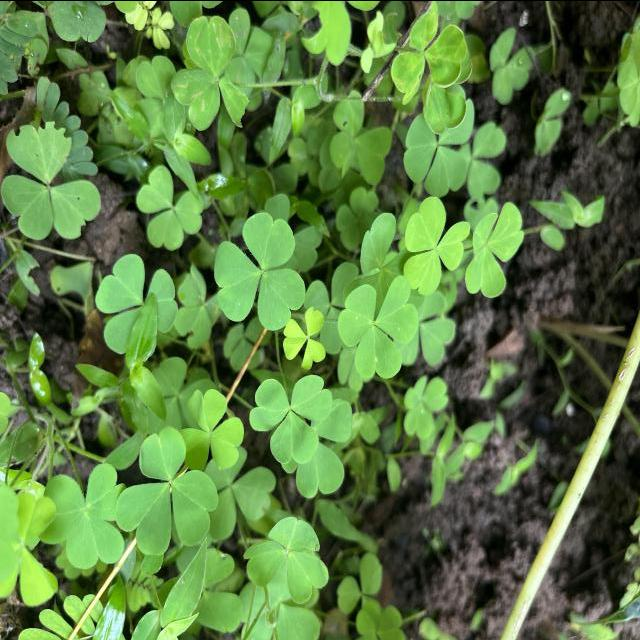Oxalis corniculata: (113, 422, 220, 556), (1, 118, 103, 245), (212, 211, 308, 328), (35, 461, 128, 575), (170, 14, 250, 130), (94, 252, 178, 356), (338, 274, 421, 379), (402, 85, 476, 198), (248, 374, 334, 466), (243, 516, 331, 604), (399, 193, 472, 294), (462, 199, 527, 299), (329, 92, 393, 185), (136, 164, 204, 250), (182, 387, 245, 471), (282, 305, 327, 370)
